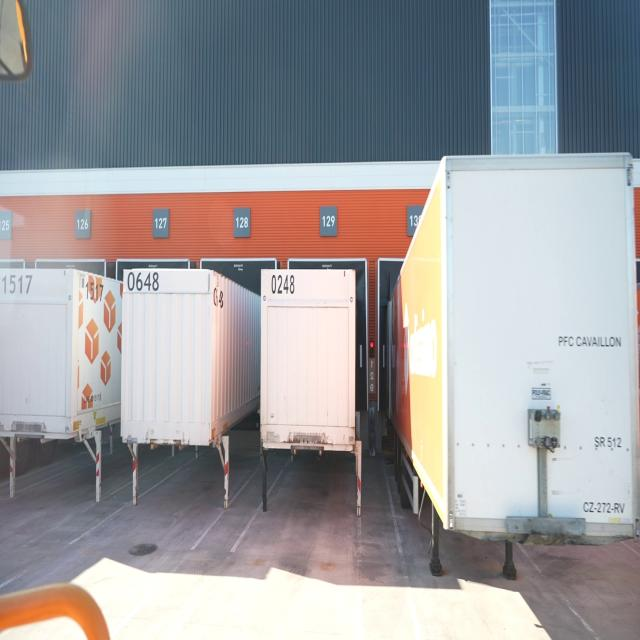Code: (123, 266, 165, 302), (267, 270, 298, 304), (1, 270, 34, 299), (79, 280, 108, 307)
